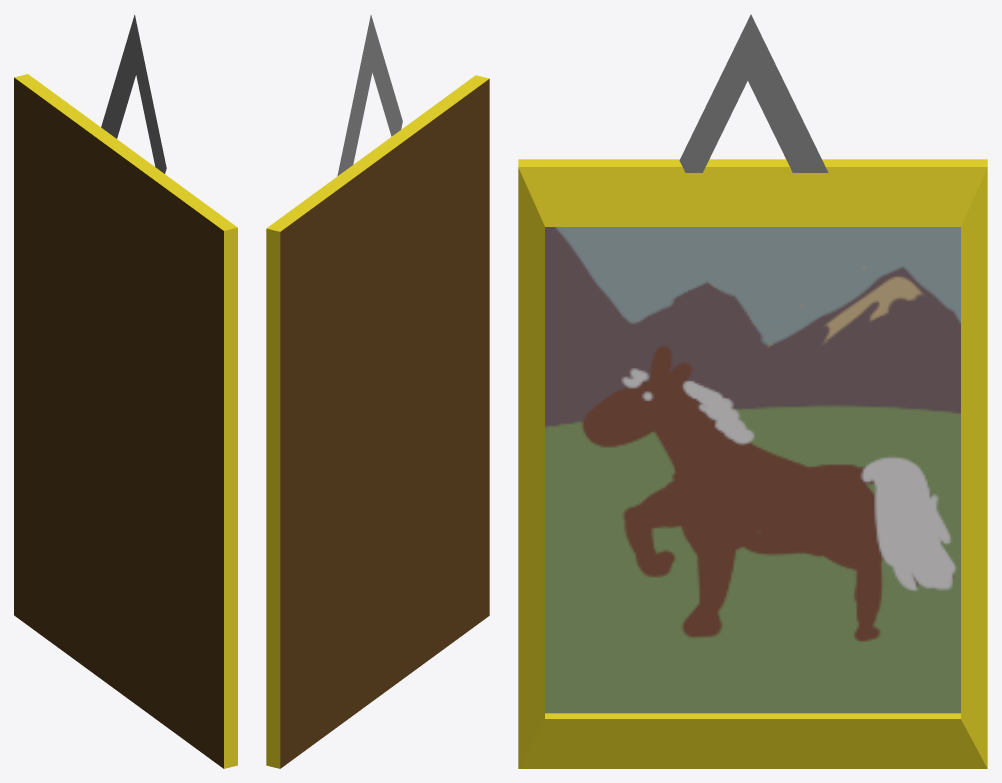
File: paintingHorse.glb
The picture shows the model from 3 angles, left to right: view 1: azimuth 30°, elevation 25°; view 2: azimuth 150°, elevation 25°; view 3: azimuth 270°, elevation 25°; orthographic projection. The views are drawn at different scales.
Parts seen in each view (by area): view 1: Frame; view 2: Frame; view 3: countPainting, Frame.
Part boxes in pixels (<box>): Frame: <box>14,14,237,768</box>; Frame: <box>266,15,489,768</box>; countPainting: <box>545,227,960,713</box>; Frame: <box>518,14,987,768</box>.
Bounding box in the file's own units: 0.0581 × 1.63 × 0.9159.
2 materials, 2 textured.
